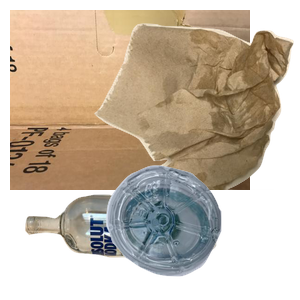cardboard: (10, 10, 250, 190)
glass: (22, 192, 234, 300)
plastic: (104, 163, 300, 300)
trash: (92, 21, 300, 201)
